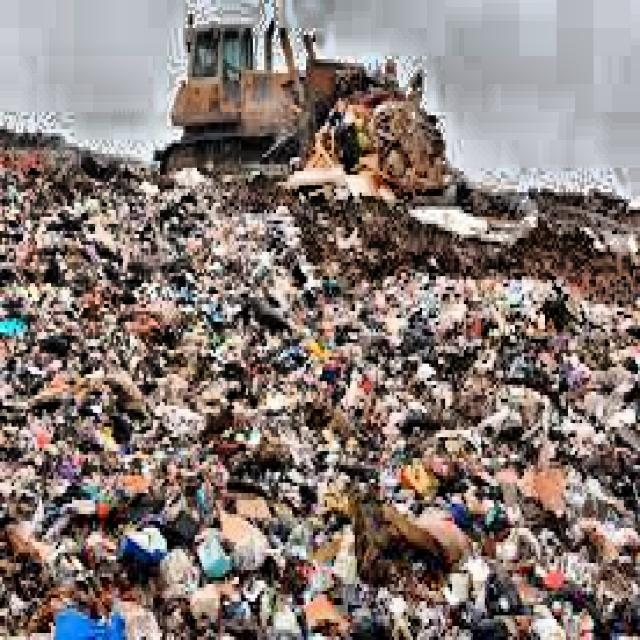garbage: (0, 126, 638, 636)
